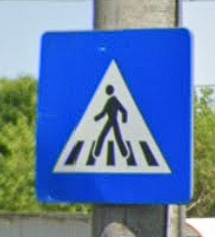trecere_pietoni: (36, 31, 199, 206)
